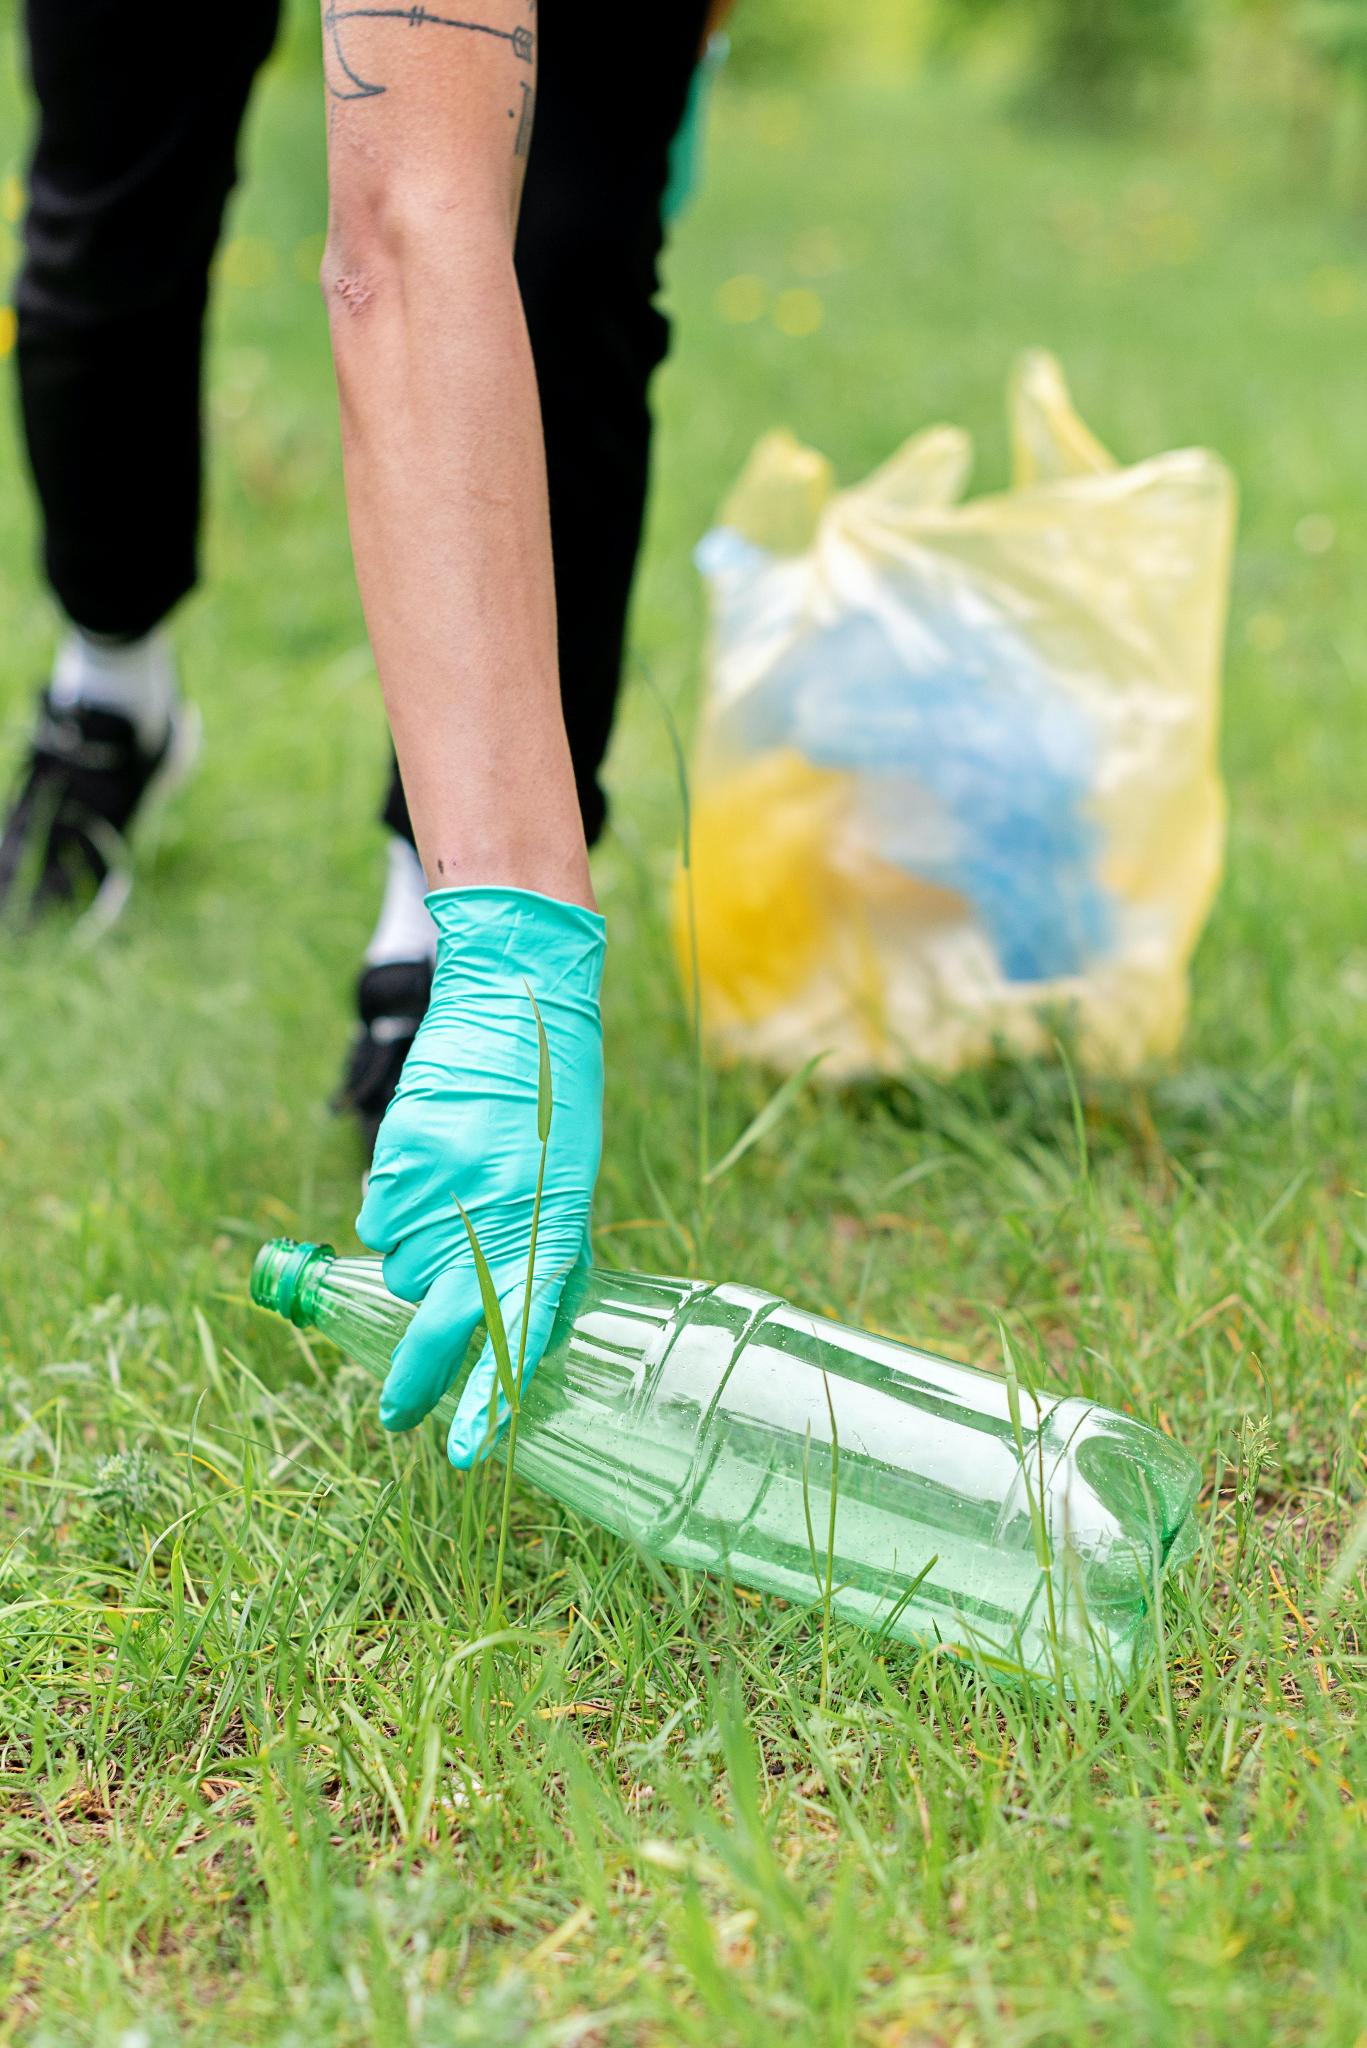bottle: (230, 1167, 1204, 1755)
